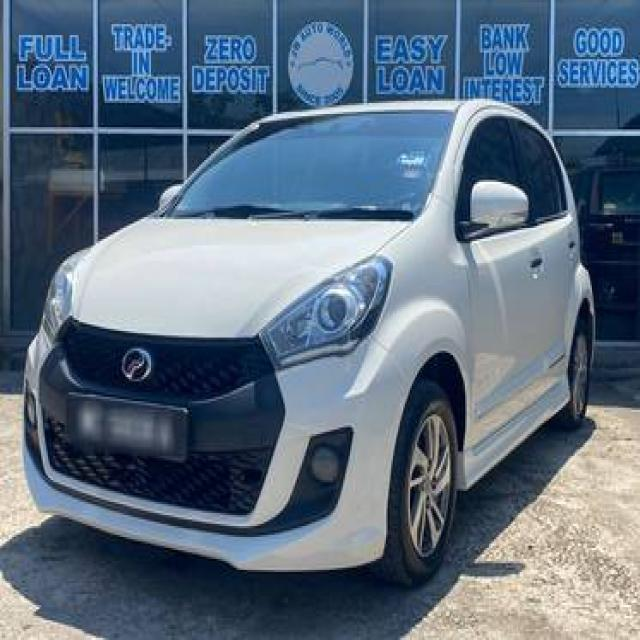PeroduaMyvi: (19, 92, 597, 587)
